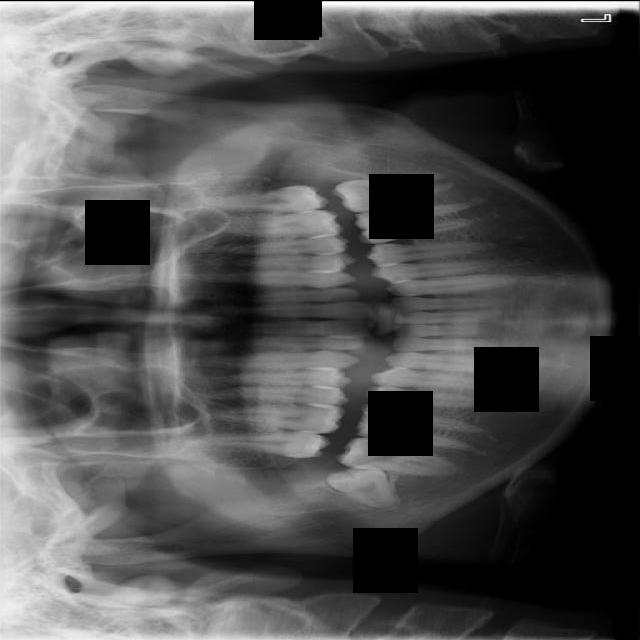73: (590, 26, 600, 38)
BioHorizons Implant: (194, 184, 329, 214)
Blue Sky Bio Implant: (331, 170, 453, 214)
Caries: (182, 425, 332, 459)
Implant: (334, 432, 457, 479)
Keystone Dental Implant: (322, 450, 406, 516)
